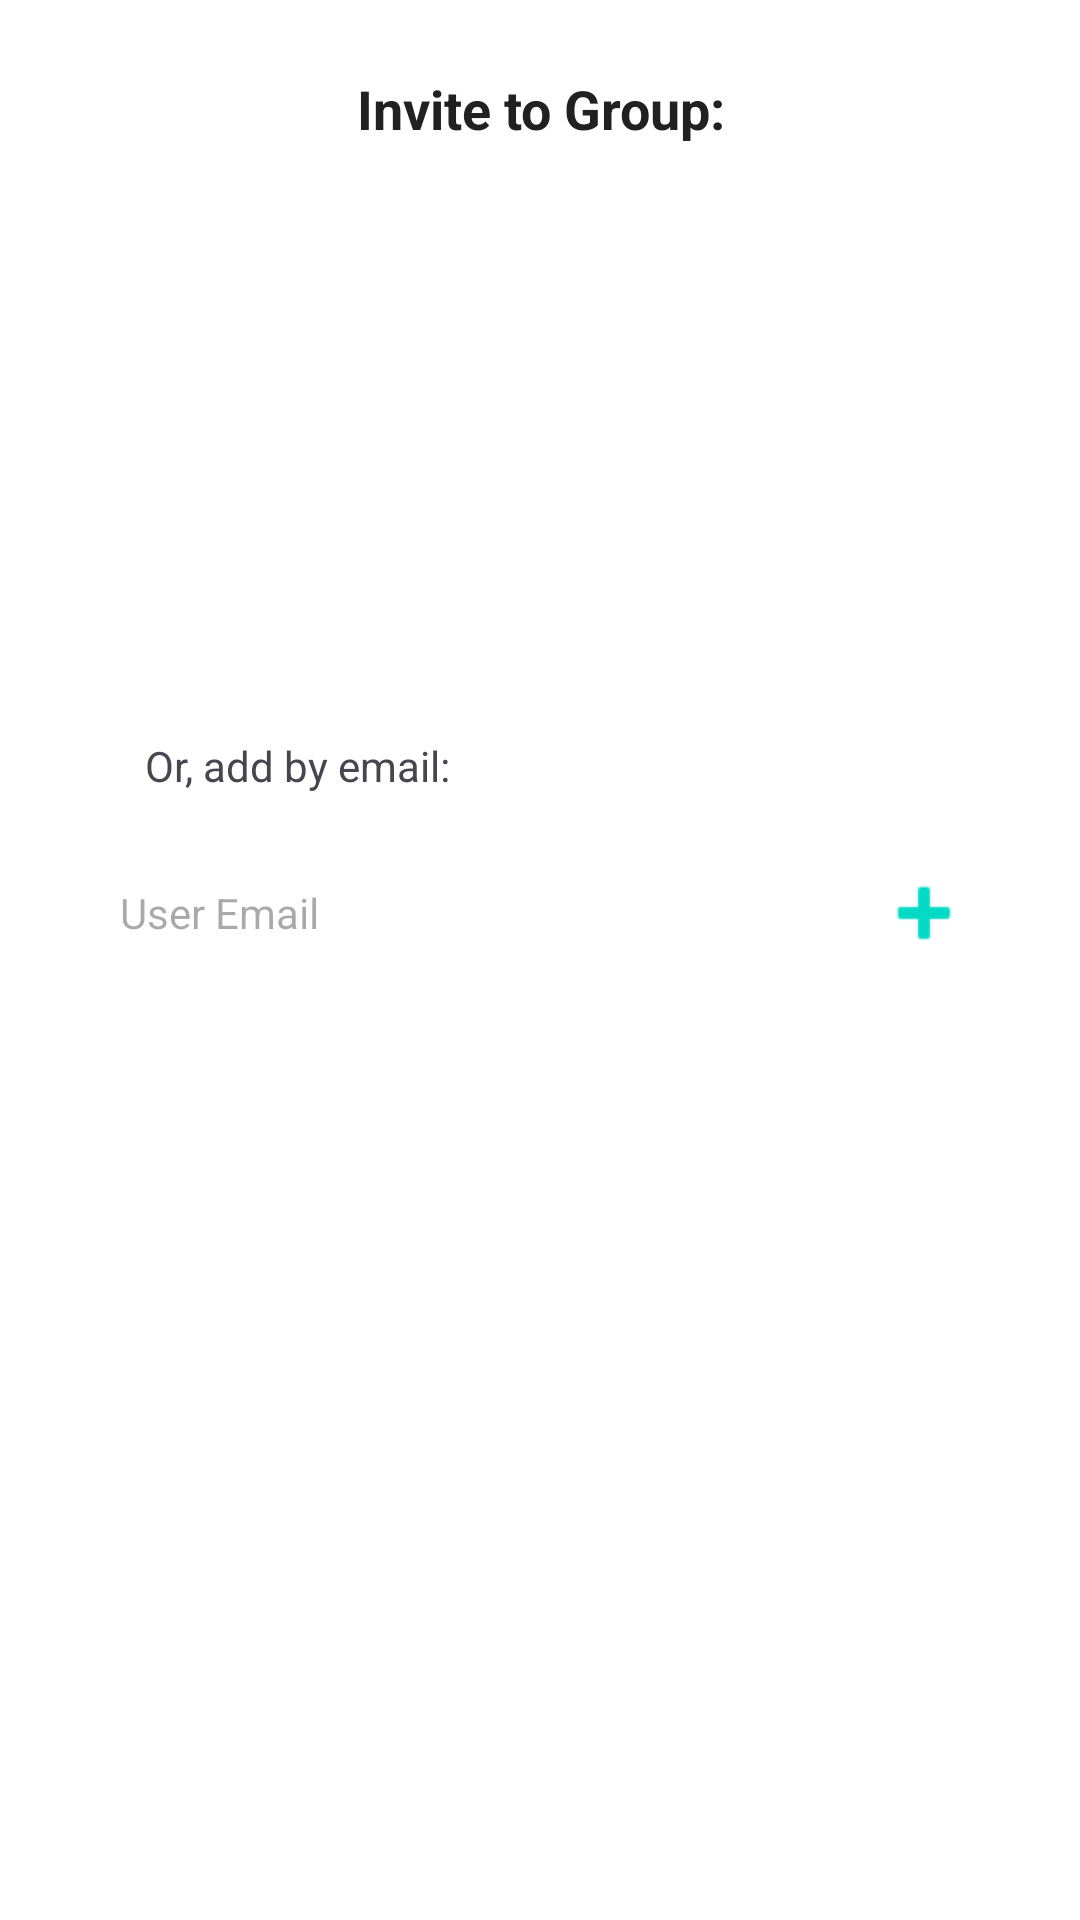

Where to tap for icons on this 1080×1920 app screen, as point (x, y):
Add Member: point (924, 913)
